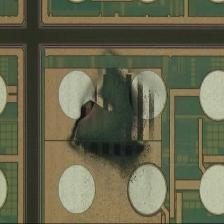PARTICLE: (68, 49, 164, 185)
